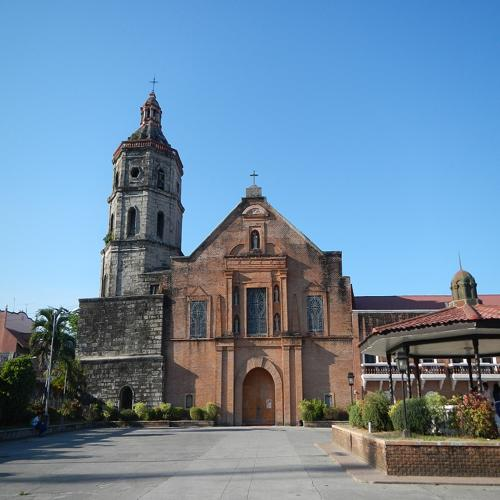San Agustin Church: (65, 70, 359, 444)
